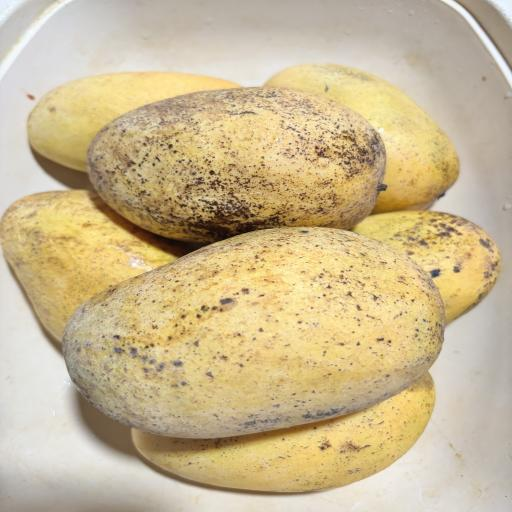fruit: (49, 230, 449, 444), (84, 76, 396, 240), (248, 47, 468, 213), (4, 177, 200, 363), (26, 48, 262, 173), (334, 194, 506, 335)
